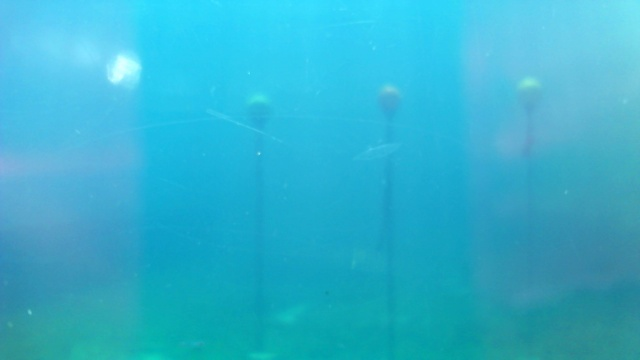buoy_green: (246, 93, 272, 129)
buoy_red: (379, 87, 398, 116)
